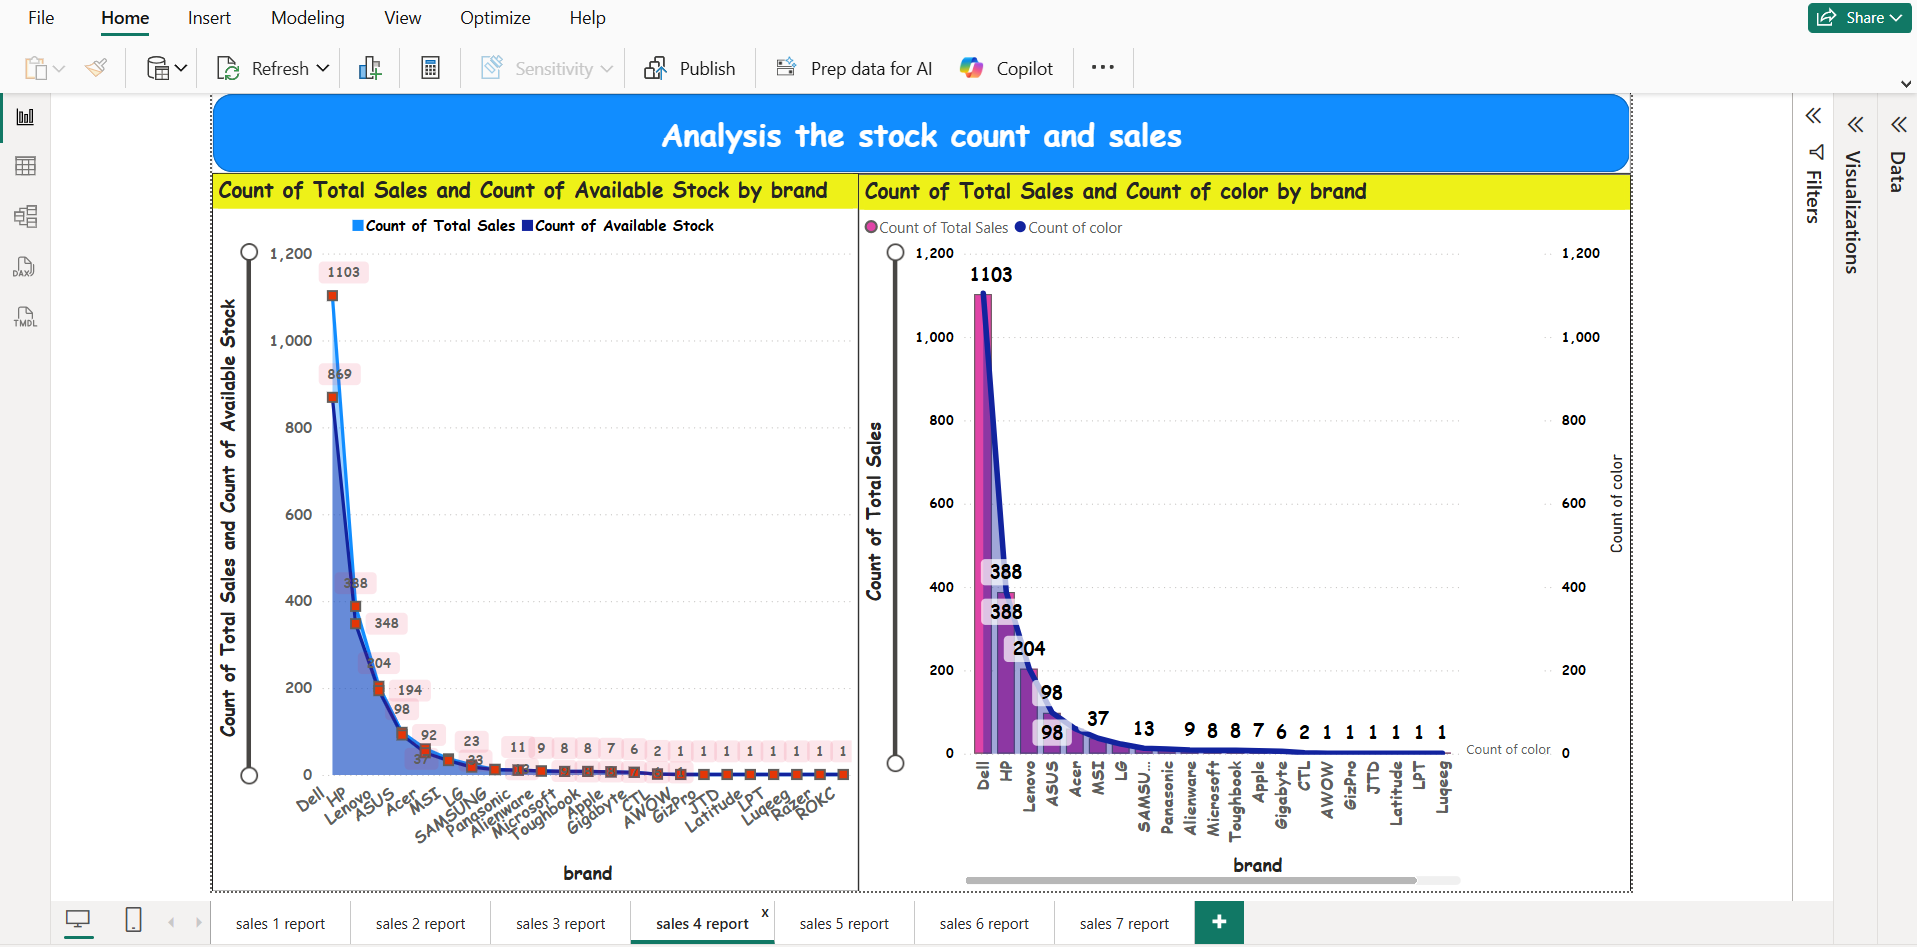

The dashboard page shown, as its layout file describes it:
{"tool":"powerbi","page":{"name":"sales 4 report","canvas":[1280,720],"ordinal":3},"visuals":[{"type":"shape","box":[0,0,1279.7,72.6],"z":0},{"type":"lineChart","fields":{"Y":["CountNonNull(amazon_laptop sales report project.Total Sales)","CountNonNull(amazon_laptop sales report project.Available Stock)"],"Category":["amazon_laptop sales report project.brand"]},"box":[0,72.6,583.4,647.9],"z":1000},{"type":"lineStackedColumnComboChart","fields":{"Y":["CountNonNull(amazon_laptop sales report project.Total Sales)"],"Category":["amazon_laptop sales report project.brand"],"Y2":["CountNonNull(amazon_laptop sales report project.color)"]},"box":[583,73,697,647],"z":2000}]}

Visuals, with their boxes on the page's 1280x720 design canvas (x1, y1, x2, y2). These are canvas units, not pixel positions in the 1917x947 screenshot, which may show the page scaled, cropped or inside an application window:
shape: (0, 0, 1280, 73)
lineChart - CountNonNull(amazon_laptop sales report project.Total Sales) x CountNonNull(amazon_laptop sales report project.Available Stock): (0, 73, 583, 720)
lineStackedColumnComboChart - CountNonNull(amazon_laptop sales report project.Total Sales) x amazon_laptop sales report project.brand: (583, 73, 1280, 720)
